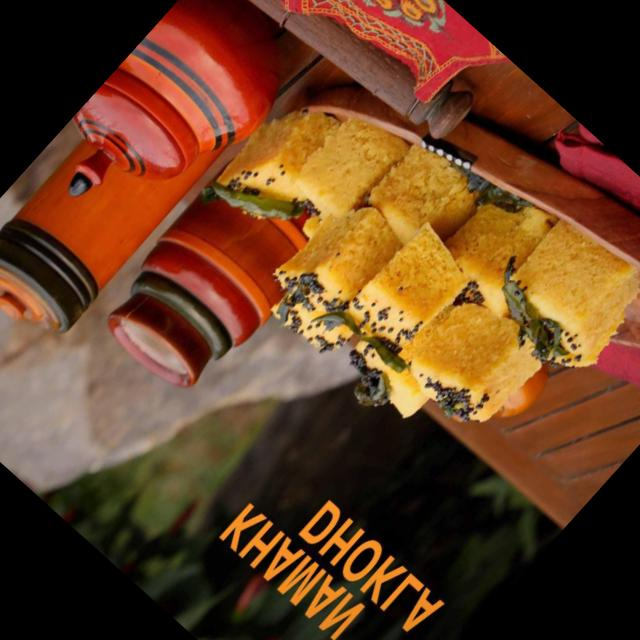dhokla: (221, 54, 608, 431)
